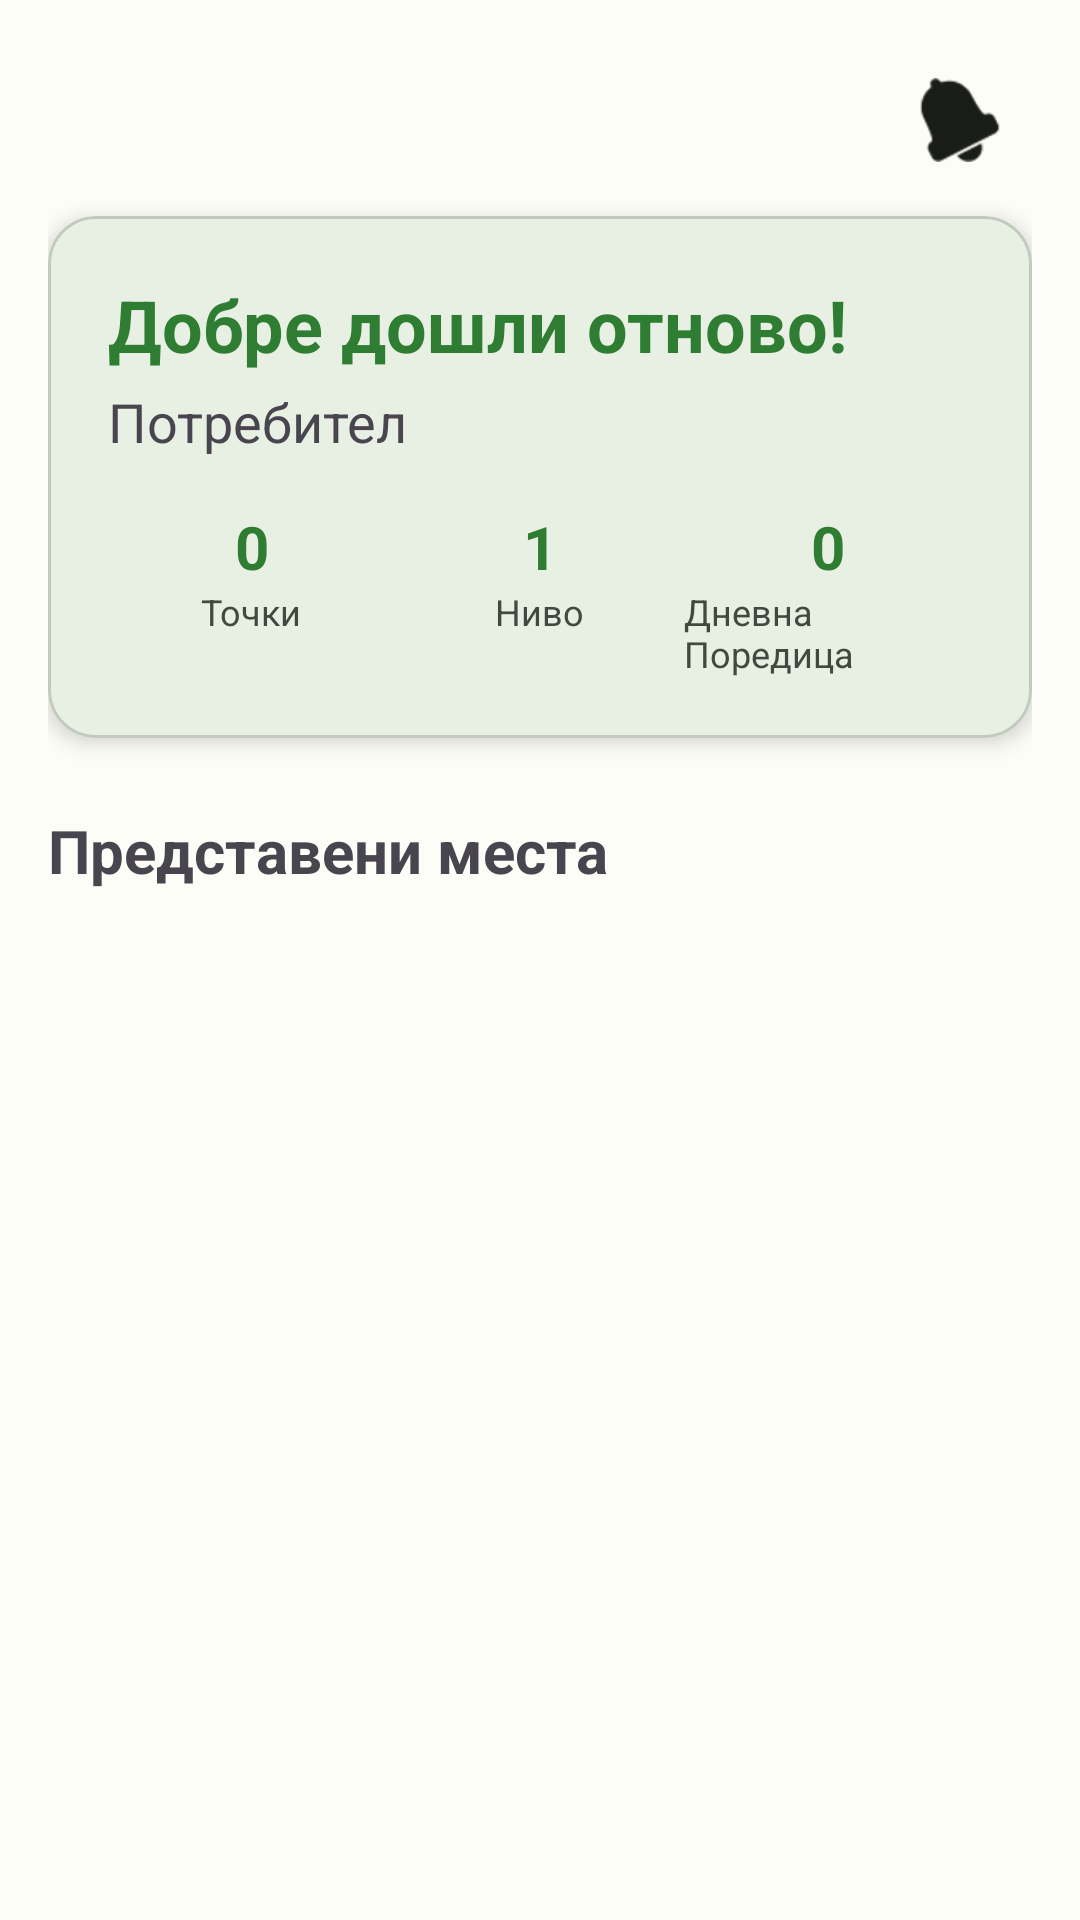

Where icons sit on this 1080 x 1920 app screen, as (x1, y1, x2, y2):
Известия: (920, 78, 1000, 162)
